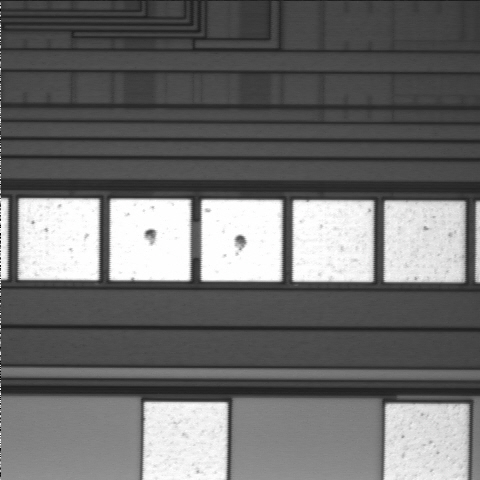pad: (110, 199, 191, 281), (201, 200, 282, 282), (293, 200, 374, 282), (384, 201, 465, 282), (19, 198, 99, 280)
